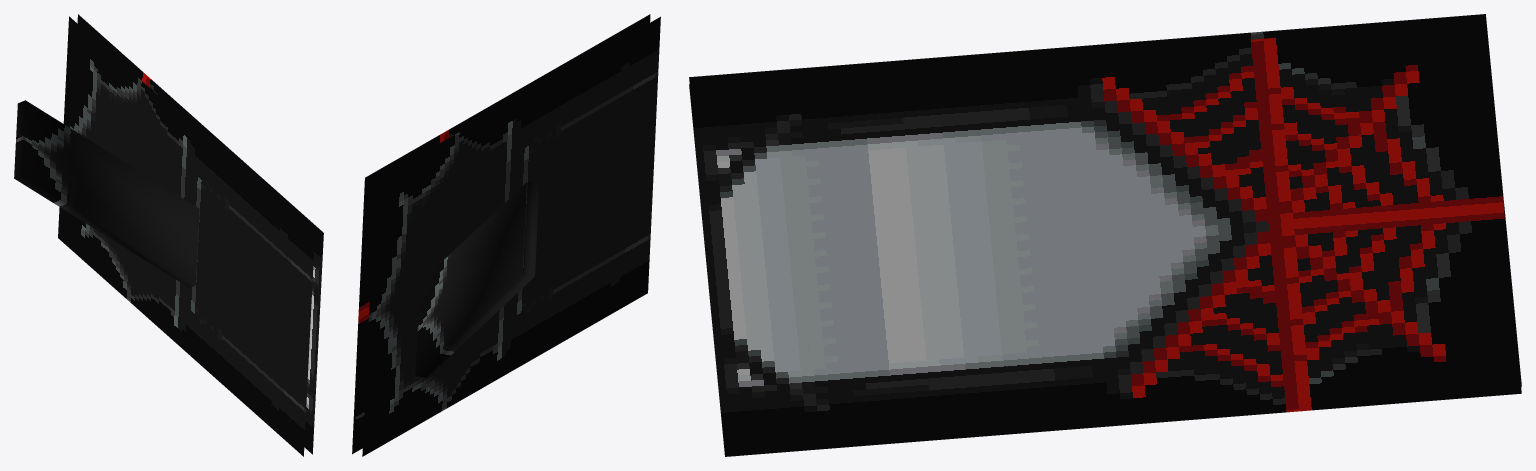
The picture shows the model from 3 angles, left to right: view 1: azimuth 30°, elevation 25°; view 2: azimuth 150°, elevation 25°; view 3: azimuth 270°, elevation 25°; orthographic projection. The views are drawn at different scales.
Visible parts, largest first — view 1: 3167IMFY04_09; view 2: 3167IMFY04_09; view 3: 3167IMFY04_09.
Boxes of the visible parts, x1,y1,x2,y2 form: 3167IMFY04_09: (14, 14, 323, 456); 3167IMFY04_09: (352, 14, 660, 456); 3167IMFY04_09: (689, 14, 1521, 456).
Bounding box in the file's own units: 0.2349 × 1.03 × 1.78.
1 material, 1 textured.
